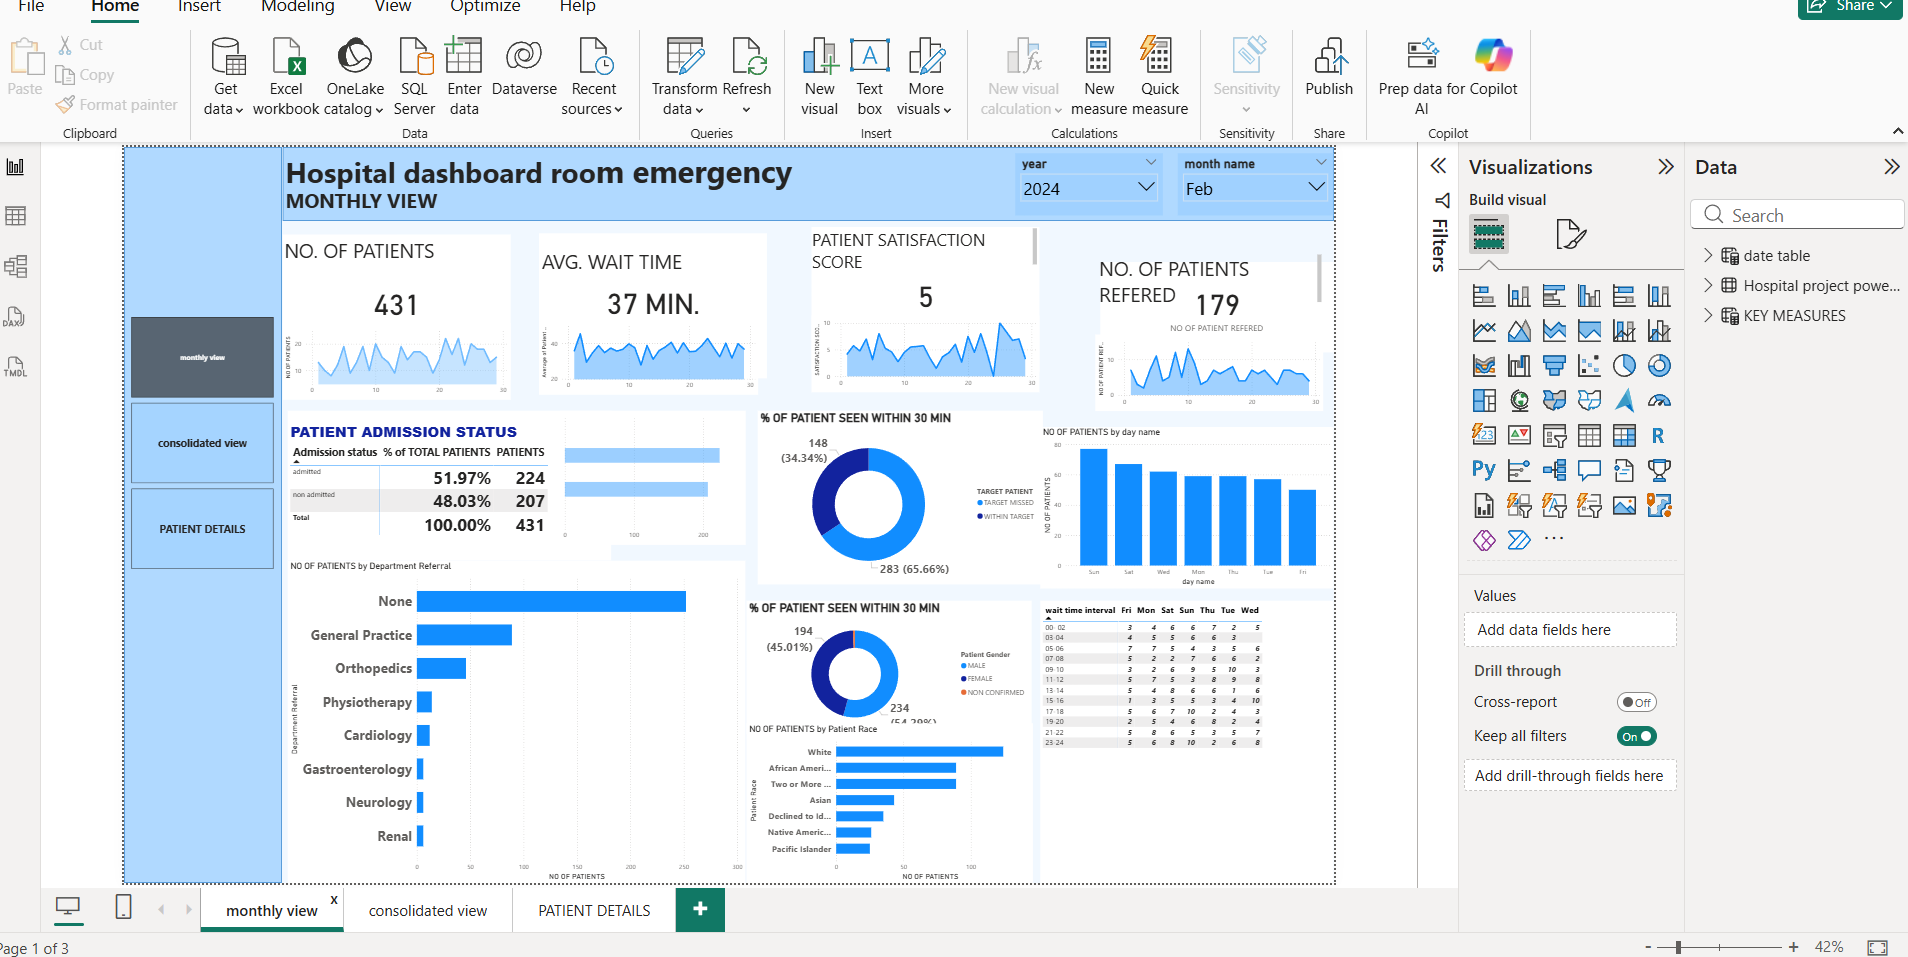

The dashboard page shown, as its layout file describes it:
{"tool":"powerbi","page":{"name":"monthly view","canvas":[2300,1400],"ordinal":0},"visuals":[{"type":"shape","box":[0,0,300,1400],"z":0},{"type":"shape","box":[300.8,0,1999.7,140.5],"z":1000},{"type":"textbox","box":[300.8,0,1035.6,103.6],"z":2000},{"type":"textbox","box":[300.8,71.5,300.8,140.5],"z":3000},{"type":"slicer","fields":{"Values":["date table.month name"]},"box":[2004.6,12.3,295.9,118.4],"z":4000},{"type":"slicer","fields":{"Values":["date table.year"]},"box":[1696.4,12.3,281.1,118.4],"z":5000},{"type":"card","fields":{"Values":["KEY MEASURES.NO OF PATIENT REFERED"]},"box":[1856.6,218.3,443.9,171.7],"z":6000},{"type":"textbox","box":[1849.9,199.7,432.7,104.6],"z":7000},{"type":"areaChart","fields":{"Category":["date table.Date.Variation.Date Hierarchy.Day"],"Y":["KEY MEASURES.NO OF PATIENT REFERED"]},"box":[1847.7,357,434,145.5],"z":8000},{"type":"card","fields":{"Values":["KEY MEASURES.NO OF PATIENTS"]},"box":[301.4,165.3,434,276.2],"z":9000},{"type":"textbox","box":[300.5,165.8,305.7,83.8],"z":10000},{"type":"areaChart","fields":{"Category":["date table.Date.Variation.Date Hierarchy.Day"],"Y":["KEY MEASURES.NO OF PATIENTS"]},"box":[301.4,335.4,434,145.5],"z":11000},{"type":"card","fields":{"Values":["KEY MEASURES.AVG. WAIT TIME"]},"box":[789,165.2,434,276.2],"z":12000},{"type":"textbox","box":[789,187.4,392,83.8],"z":13000},{"type":"areaChart","fields":{"Category":["date table.Date.Variation.Date Hierarchy.Day"],"Y":["Avg(Hospital project power bi.Patient Waittime)"]},"box":[789,325.5,416.7,145.5],"z":14000},{"type":"card","fields":{"Values":["KEY MEASURES.SATISFACTION SCORE"]},"box":[1307.4,151.4,434,276.2],"z":15000},{"type":"textbox","box":[1301.9,150.4,438.9,86.3],"z":16000},{"type":"areaChart","fields":{"Category":["date table.Date.Variation.Date Hierarchy.Day"],"Y":["KEY MEASURES.SATISFACTION SCORE"]},"box":[1307.4,321.6,434,145.5],"z":17000},{"type":"pivotTable","title":"PATIENT ADMISSION STATUS","fields":{"Rows":["Hospital project power bi.admission status"],"Values":["KEY MEASURES.NO OF PATIENTS","KEY MEASURES.NO OF PATIENTS1"]},"box":[312.5,502.5,615,285],"z":18000},{"type":"barChart","fields":{"Category":["Hospital project power bi.Admission status"],"Y":["KEY MEASURES.NO OF PATIENTS"]},"box":[830,502.5,352.5,255],"z":19000},{"type":"clusteredBarChart","fields":{"Category":["Hospital project power bi.Department Referral"],"Y":["KEY MEASURES.NO OF PATIENTS"]},"box":[311.5,787,870.2,613.5],"z":20000},{"type":"donutChart","title":"% OF PATIENT SEEN WITHIN 30 MIN","fields":{"Category":["Hospital project power bi.TARGET PATIENT"],"Y":["KEY MEASURES.NO OF PATIENTS"]},"box":[1205.5,501.7,542.1,330.5],"z":21000},{"type":"donutChart","title":"% OF PATIENT SEEN WITHIN 30 MIN","fields":{"Y":["KEY MEASURES.NO OF PATIENTS"],"Category":["Hospital project power bi.Patient Gender"]},"box":[1185,862.5,542.5,252.5],"z":22000},{"type":"clusteredBarChart","fields":{"Y":["KEY MEASURES.NO OF PATIENTS"],"Category":["Hospital project power bi.Patient Race"]},"box":[1184.1,1096.1,544.5,304.3],"z":23000},{"type":"pivotTable","fields":{"Rows":["Hospital project power bi.wait time interval"],"Columns":["date table.day name"],"Values":["KEY MEASURES.NO OF PATIENTS"]},"box":[1742.5,862.5,557.5,537.5],"z":24000},{"type":"columnChart","fields":{"Category":["date table.day name"],"Y":["KEY MEASURES.NO OF PATIENTS"]},"box":[1742.5,532.5,557.5,307.5],"z":25000},{"type":"pageNavigator","box":[15,322.5,270,480],"z":26000}]}

Visuals, with their boxes on the page's 2300x1400 design canvas (x1, y1, x2, y2). These are canvas units, not pixel positions in the 1908x957 screenshot, which may show the page scaled, cropped or inside an application window:
shape: {"x1": 0, "y1": 0, "x2": 300, "y2": 1400}
shape: {"x1": 301, "y1": 0, "x2": 2300, "y2": 140}
textbox: {"x1": 301, "y1": 0, "x2": 1336, "y2": 104}
textbox: {"x1": 301, "y1": 72, "x2": 602, "y2": 212}
slicer - date table.month name: {"x1": 2005, "y1": 12, "x2": 2300, "y2": 131}
slicer - date table.year: {"x1": 1696, "y1": 12, "x2": 1978, "y2": 131}
card - KEY MEASURES.NO OF PATIENT REFERED: {"x1": 1857, "y1": 218, "x2": 2300, "y2": 390}
textbox: {"x1": 1850, "y1": 200, "x2": 2283, "y2": 304}
areaChart - date table.Date.Variation.Date Hierarchy.Day x KEY MEASURES.NO OF PATIENT REFERED: {"x1": 1848, "y1": 357, "x2": 2282, "y2": 502}
card - KEY MEASURES.NO OF PATIENTS: {"x1": 301, "y1": 165, "x2": 735, "y2": 442}
textbox: {"x1": 300, "y1": 166, "x2": 606, "y2": 250}
areaChart - date table.Date.Variation.Date Hierarchy.Day x KEY MEASURES.NO OF PATIENTS: {"x1": 301, "y1": 335, "x2": 735, "y2": 481}
card - KEY MEASURES.AVG. WAIT TIME: {"x1": 789, "y1": 165, "x2": 1223, "y2": 441}
textbox: {"x1": 789, "y1": 187, "x2": 1181, "y2": 271}
areaChart - date table.Date.Variation.Date Hierarchy.Day x Avg(Hospital project power bi.Patient Waittime): {"x1": 789, "y1": 326, "x2": 1206, "y2": 471}
card - KEY MEASURES.SATISFACTION SCORE: {"x1": 1307, "y1": 151, "x2": 1741, "y2": 428}
textbox: {"x1": 1302, "y1": 150, "x2": 1741, "y2": 237}
areaChart - date table.Date.Variation.Date Hierarchy.Day x KEY MEASURES.SATISFACTION SCORE: {"x1": 1307, "y1": 322, "x2": 1741, "y2": 467}
"PATIENT ADMISSION STATUS" pivotTable: {"x1": 312, "y1": 502, "x2": 928, "y2": 788}
barChart - Hospital project power bi.Admission status x KEY MEASURES.NO OF PATIENTS: {"x1": 830, "y1": 502, "x2": 1182, "y2": 758}
clusteredBarChart - Hospital project power bi.Department Referral x KEY MEASURES.NO OF PATIENTS: {"x1": 312, "y1": 787, "x2": 1182, "y2": 1400}
"% OF PATIENT SEEN WITHIN 30 MIN" donutChart: {"x1": 1206, "y1": 502, "x2": 1748, "y2": 832}
"% OF PATIENT SEEN WITHIN 30 MIN" donutChart: {"x1": 1185, "y1": 862, "x2": 1728, "y2": 1115}
clusteredBarChart - KEY MEASURES.NO OF PATIENTS x Hospital project power bi.Patient Race: {"x1": 1184, "y1": 1096, "x2": 1729, "y2": 1400}
pivotTable - Hospital project power bi.wait time interval x date table.day name: {"x1": 1742, "y1": 862, "x2": 2300, "y2": 1400}
columnChart - date table.day name x KEY MEASURES.NO OF PATIENTS: {"x1": 1742, "y1": 532, "x2": 2300, "y2": 840}
pageNavigator: {"x1": 15, "y1": 322, "x2": 285, "y2": 802}
